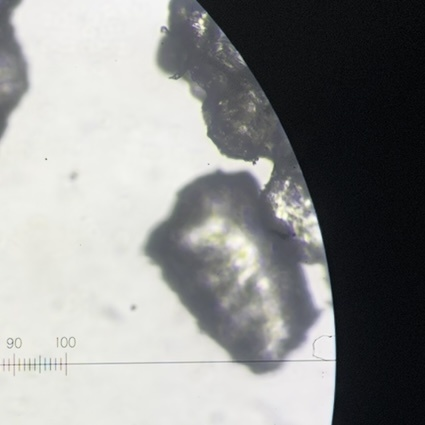microplastic: (155, 1, 328, 267), (137, 166, 323, 376), (1, 1, 31, 147)
